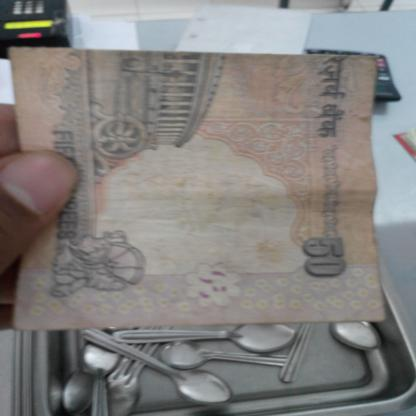Old50Back: (10, 46, 388, 329)
